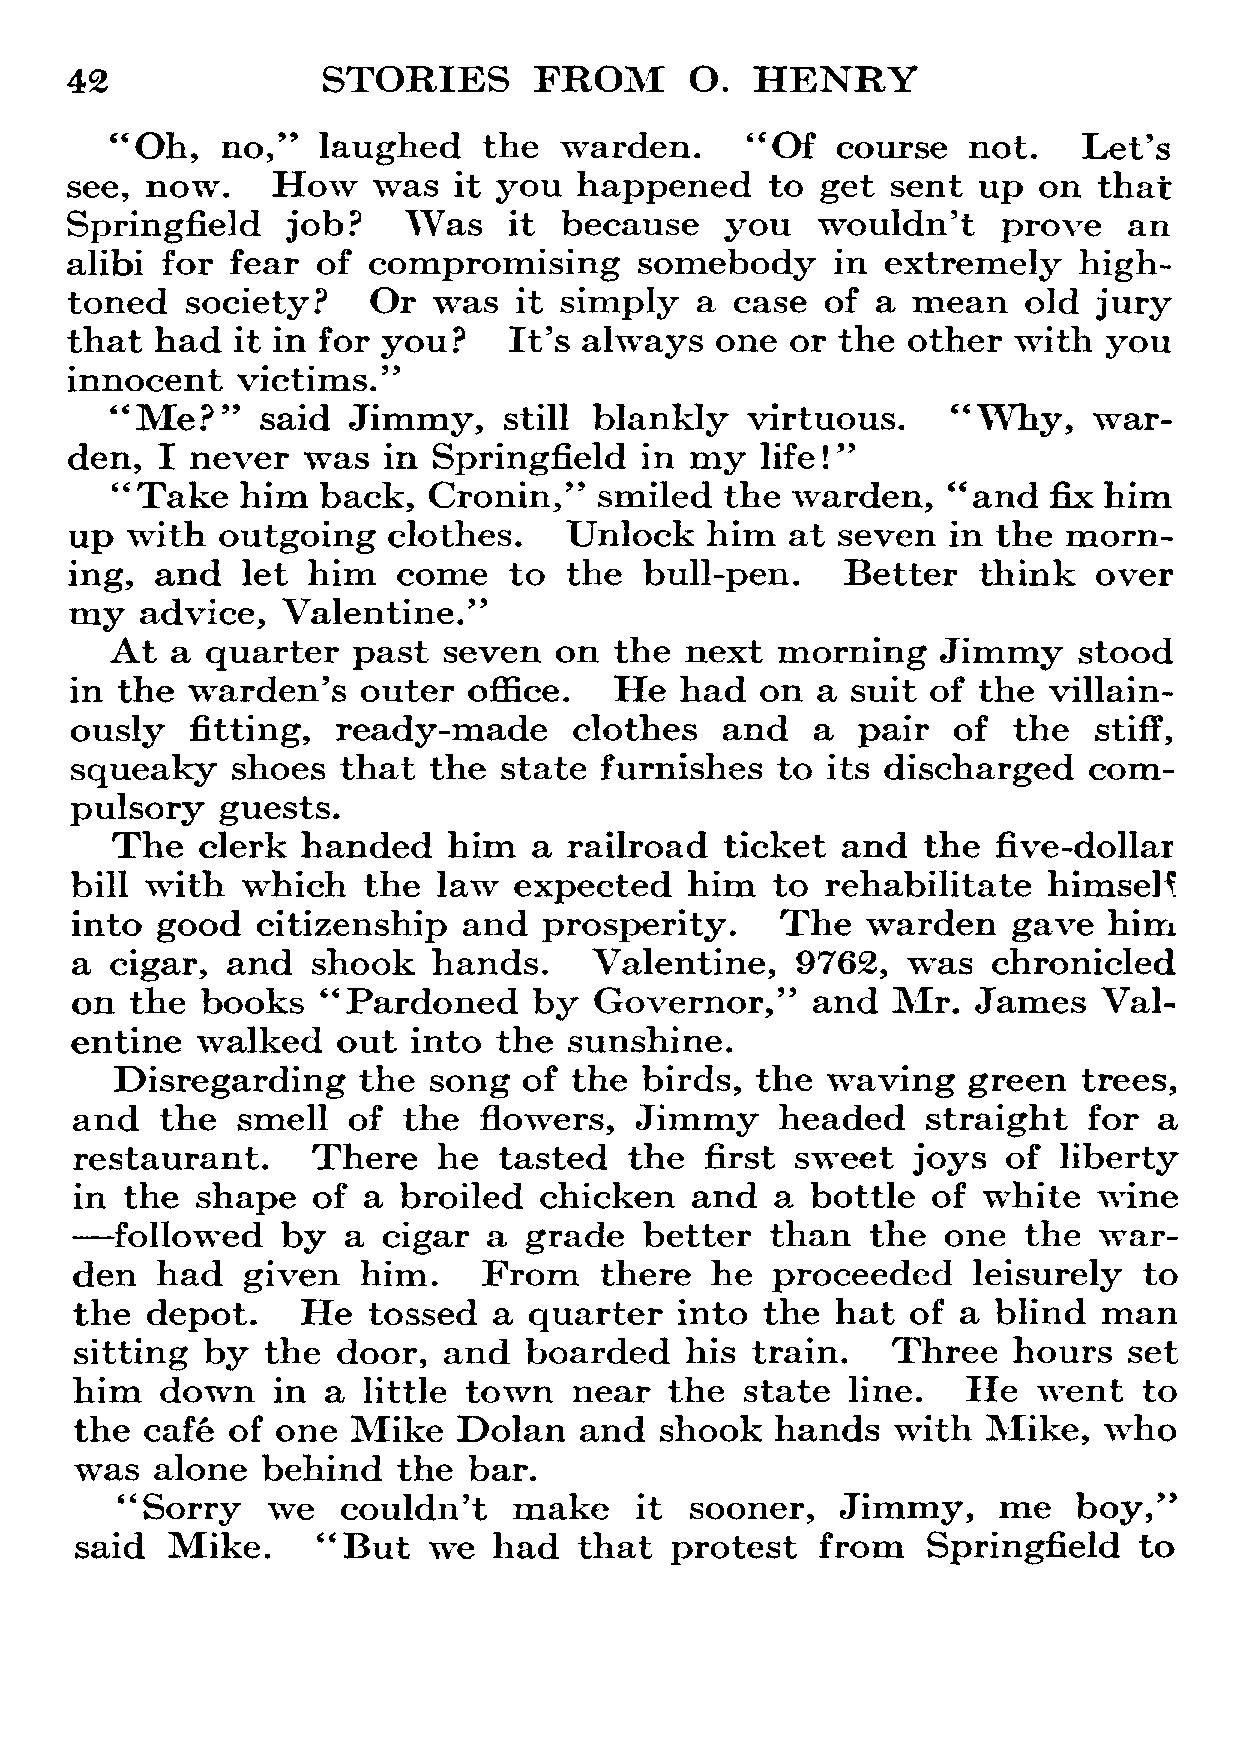content: (64, 123, 1192, 1567)
content_chapter: (311, 59, 921, 95)
content_pagenumber: (67, 58, 113, 98)
